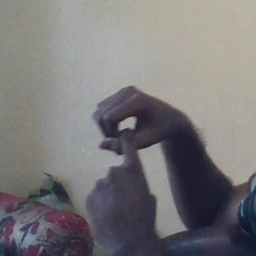Q: (86, 85, 173, 230)
